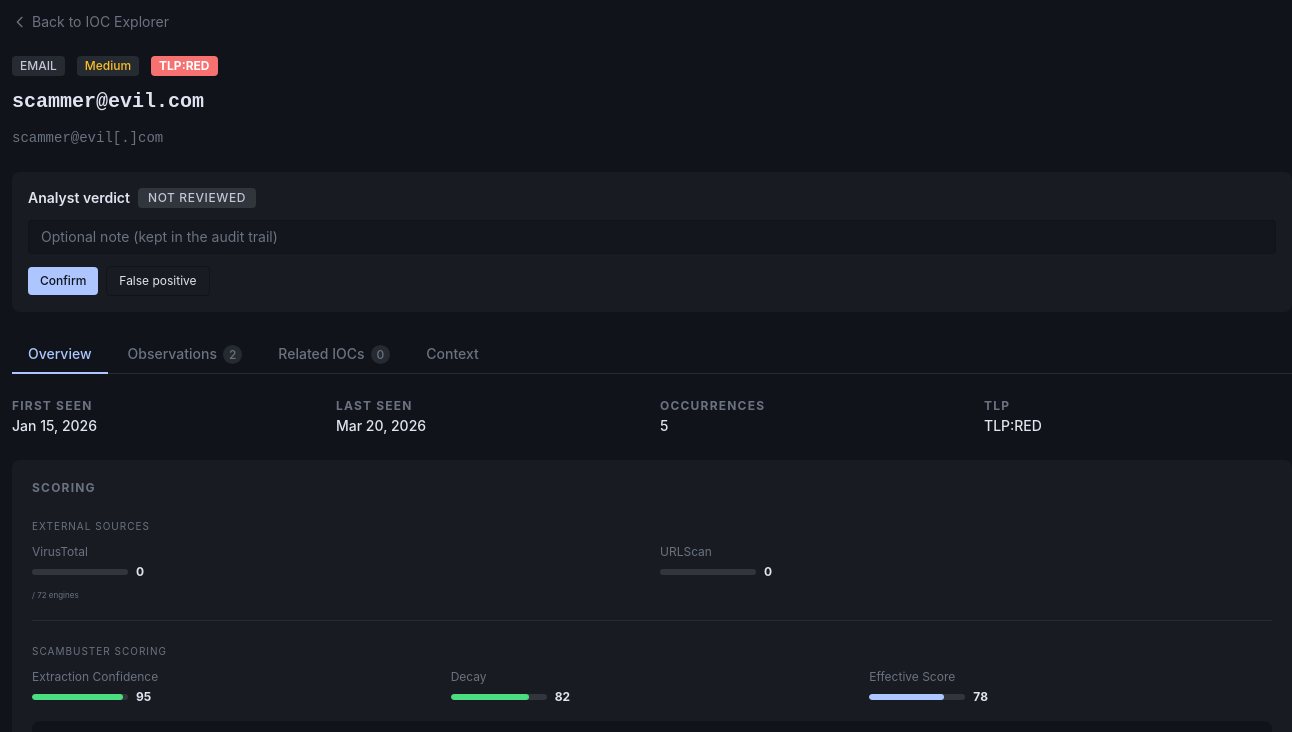
Test: IocDetail — coverage gaps › shows no related IOCs message
Expected: the heading "scammer@evil.com" is shown, [12,90,204,113]
Step 1. Click the button "Related IOCs0" → x=334, y=355, box [262,336,406,374]
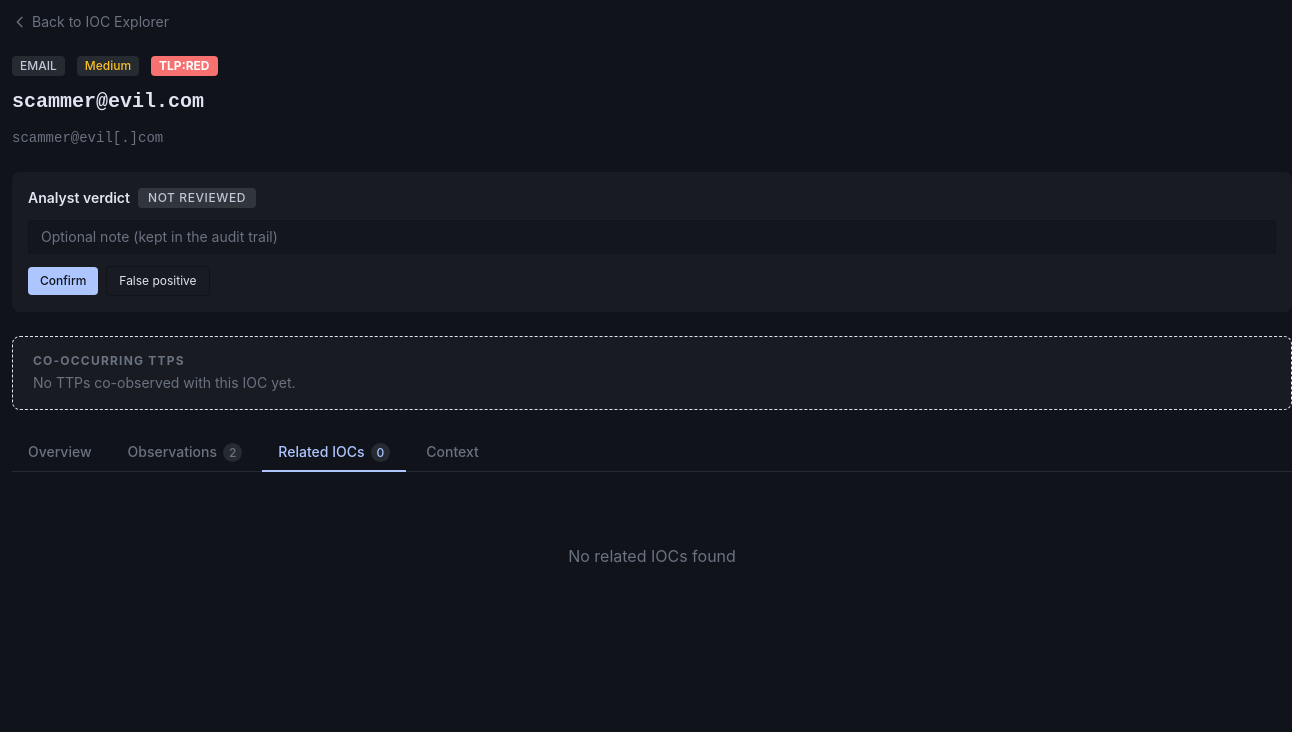
Expected: the text "No related IOCs found" is shown, [568,546,736,566]
